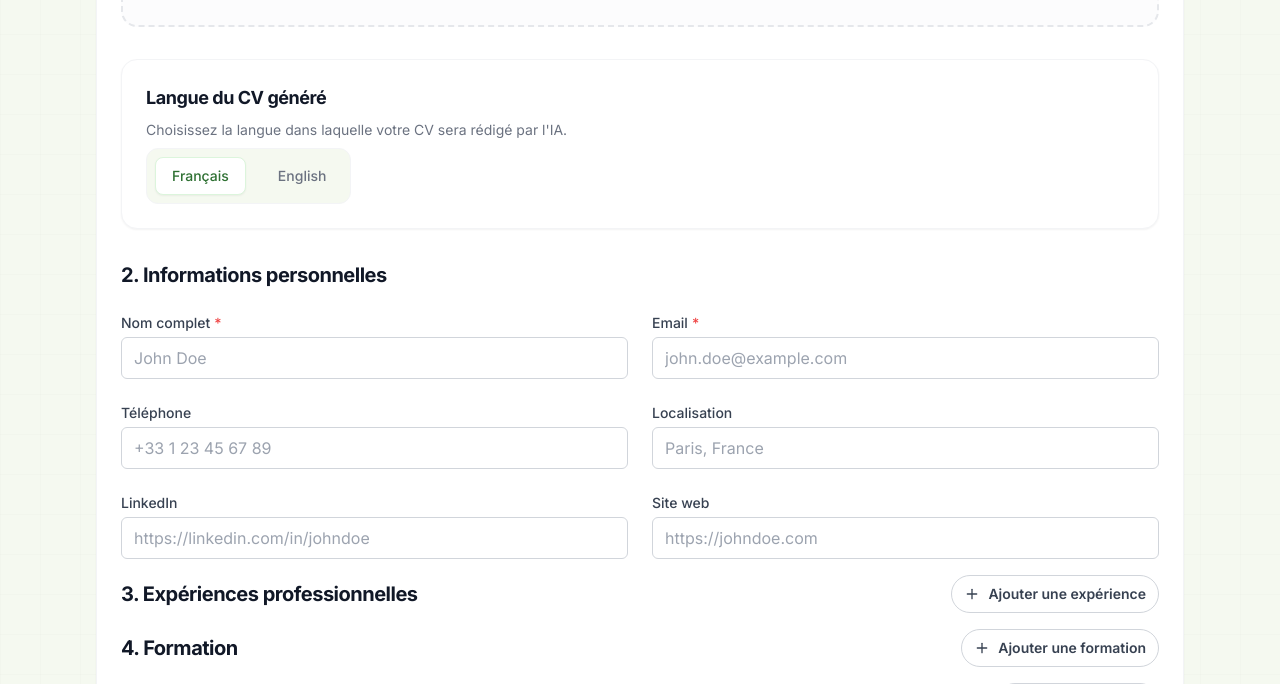
Test: CV Flow Integration Test › should prevent submission with incomplete data
(page scrolled)
// Remplir seulement le nom
Step 1. Type "Nguyen Nhi" into the field with test id "name-input" → point(374, 358), box [121, 337, 628, 379]
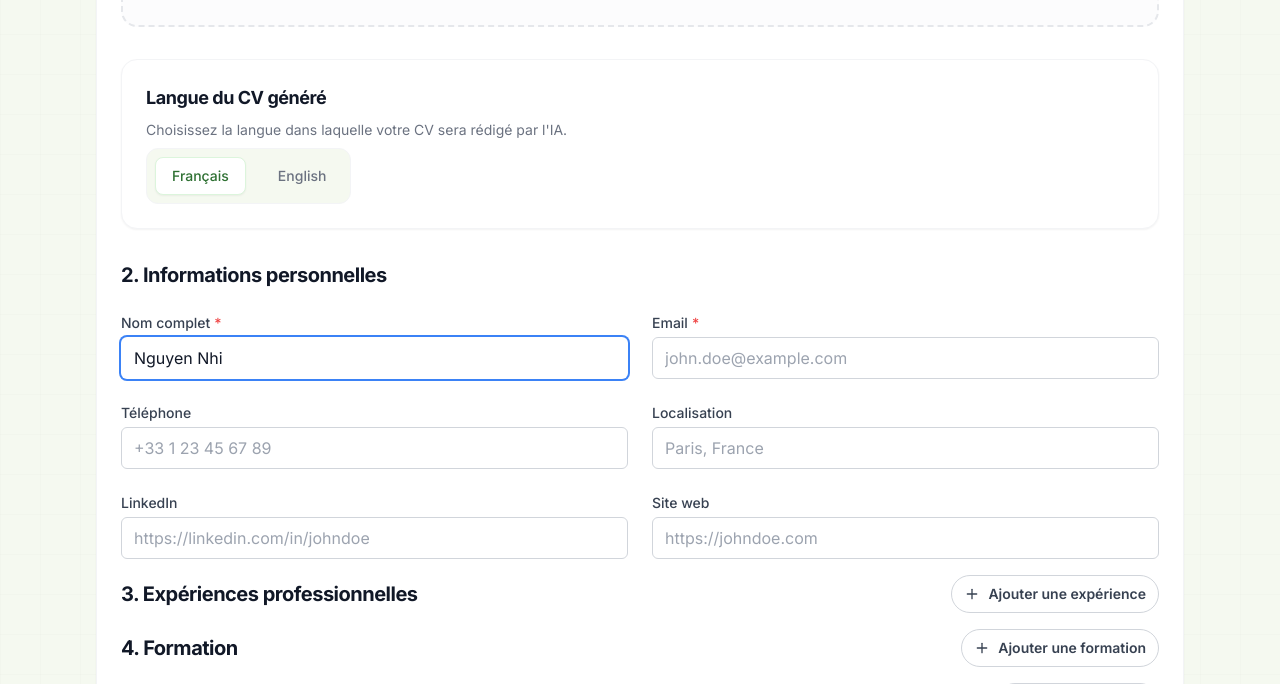
// Ajouter l'email
Step 2. Type "nguyen.nhi@example.com" into the field with test id "email-input" → point(906, 358), box [652, 337, 1159, 379]
(page scrolled)
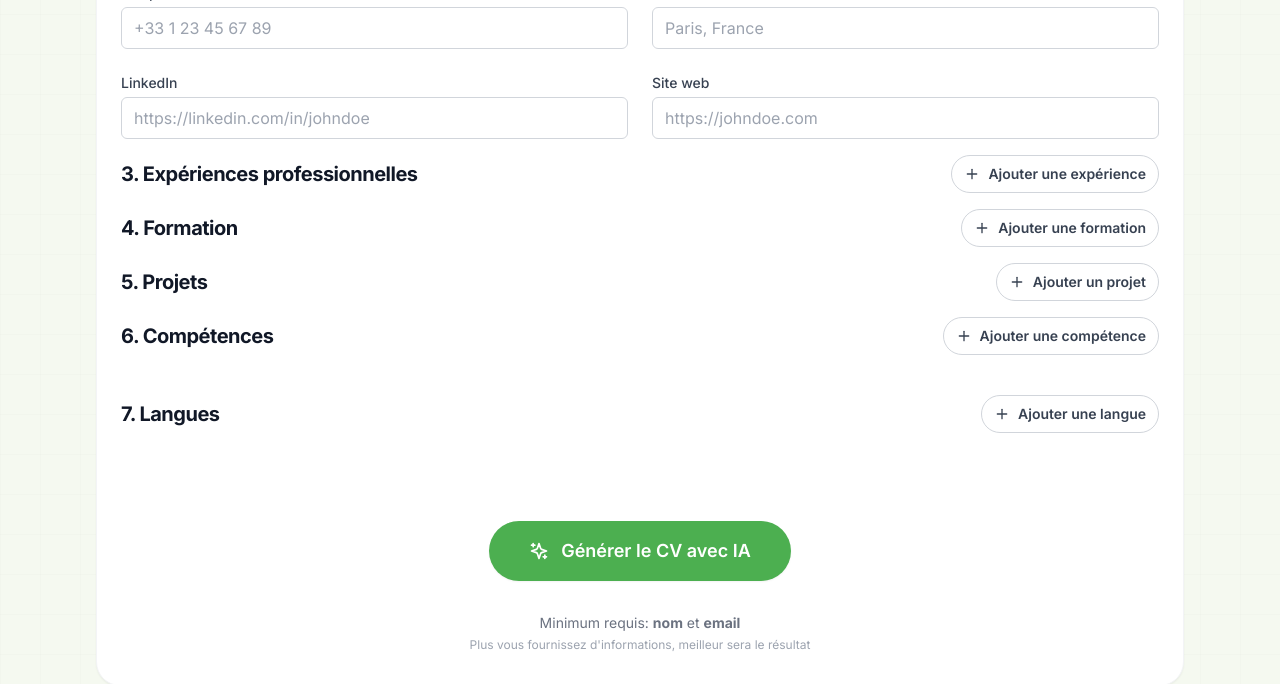
Result: the button with test id "generate-cv-button" is enabled at [489, 521, 791, 581]
